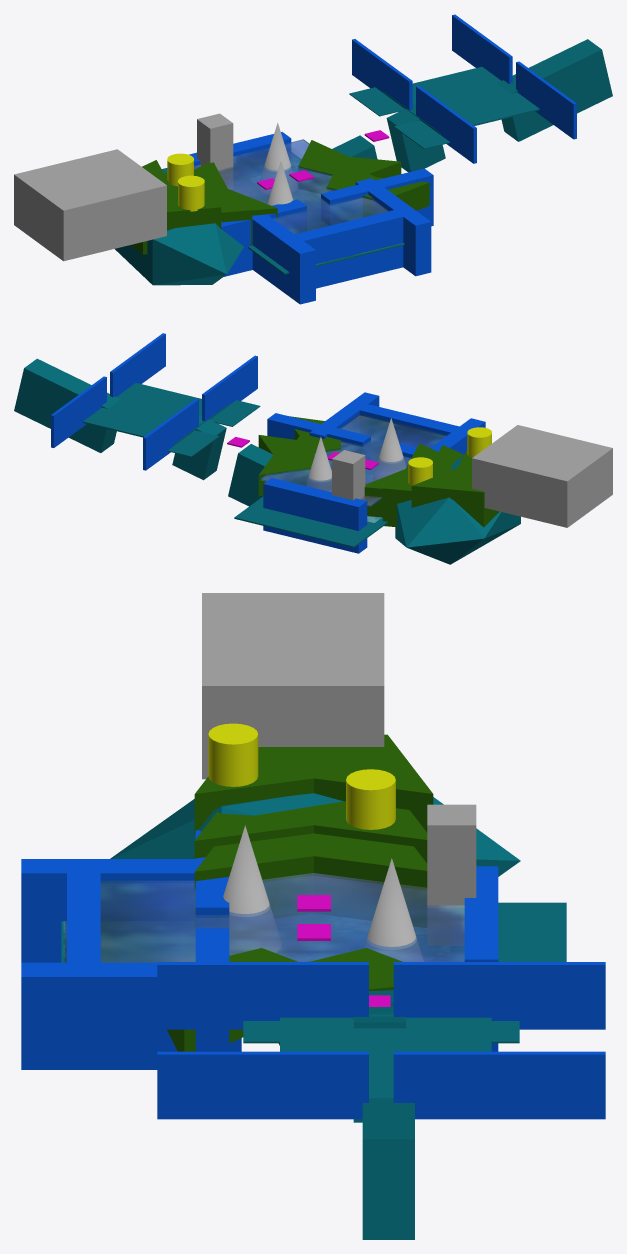
Rendered from level2.fbx.
The picture shows the model from 3 angles, top to bottom: view 1: azimuth 30°, elevation 25°; view 2: azimuth 150°, elevation 25°; view 3: azimuth 270°, elevation 25°; orthographic projection. The views are drawn at different scales.
Parts seen in each view (by area): view 1: mnsuion, water, pCube9, pPlatonic1, pCube15, pCube12, pCube10, pCylinder4, pCube11, pCube8, pCube16, pCube14 (+18 smaller); view 2: mnsuion, pPlatonic1, pCube15, pCube6, water, pCube12, pCube3, pCylinder1, pCube9, pCylinder4, pCube17, pCube13 (+17 smaller); view 3: mnsuion, water, pCube11, pCube16, pCube17, pCube13, pCube14, pCylinder3, pCube10, pCylinder1, pCube12, pCube15 (+16 smaller).
Part boxes in pixels (<box>): mnsuion: <box>14,149,166,261</box>; water: <box>194,139,389,234</box>; pCube9: <box>295,209,405,288</box>; pPlatonic1: <box>115,221,243,285</box>; pCube15: <box>497,39,612,141</box>; pCube12: <box>382,66,539,134</box>; pCube10: <box>252,214,315,304</box>; pCylinder4: <box>298,140,401,193</box>; pCube11: <box>355,178,431,276</box>; pCube8: <box>321,168,433,226</box>; pCube16: <box>516,61,576,139</box>; pCube14: <box>416,86,476,163</box>; mnsuion: <box>472,425,612,527</box>; pPlatonic1: <box>395,456,520,564</box>; pCube15: <box>14,358,120,452</box>; pCube6: <box>263,478,367,553</box>; water: <box>260,414,446,506</box>; pCube12: <box>83,383,227,445</box>; pCube3: <box>234,496,387,547</box>; pCylinder1: <box>411,450,505,527</box>; pCube9: <box>357,403,459,447</box>; pCylinder4: <box>258,435,314,496</box>; pCube17: <box>51,376,106,447</box>; pCube13: <box>143,399,198,470</box>; mnsuion: <box>202,593,384,779</box>; water: <box>100,873,464,962</box>; pCube11: <box>21,962,241,1069</box>; pCube16: <box>157,1051,368,1119</box>; pCube17: <box>393,1051,605,1119</box>; pCube13: <box>393,962,605,1029</box>; pCube14: <box>157,962,368,1029</box>; pCylinder3: <box>194,833,427,927</box>; pCube10: <box>21,859,203,962</box>; pCylinder1: <box>194,734,433,834</box>; pCube12: <box>280,1014,491,1098</box>; pCube15: <box>362,1098,414,1239</box>.
Size of the model in its own units: 421 by 78.57 by 195.
Materials: 7 (1 with a texture image).
